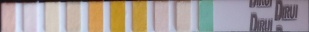color 1: (1, 4, 14, 30)
color 10: (200, 2, 212, 30)
color 2: (24, 5, 36, 31)
color 3: (45, 4, 58, 31)
color 4: (68, 3, 79, 32)
color 5: (89, 3, 102, 32)
color 6: (111, 3, 123, 32)
color 7: (134, 2, 146, 32)
color 8: (155, 3, 168, 32)
color 9: (178, 3, 190, 32)
